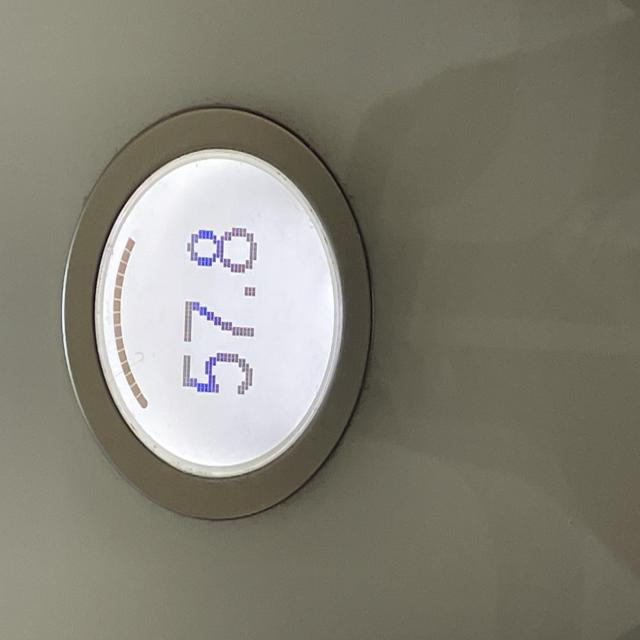ws: (62, 115, 372, 523)
